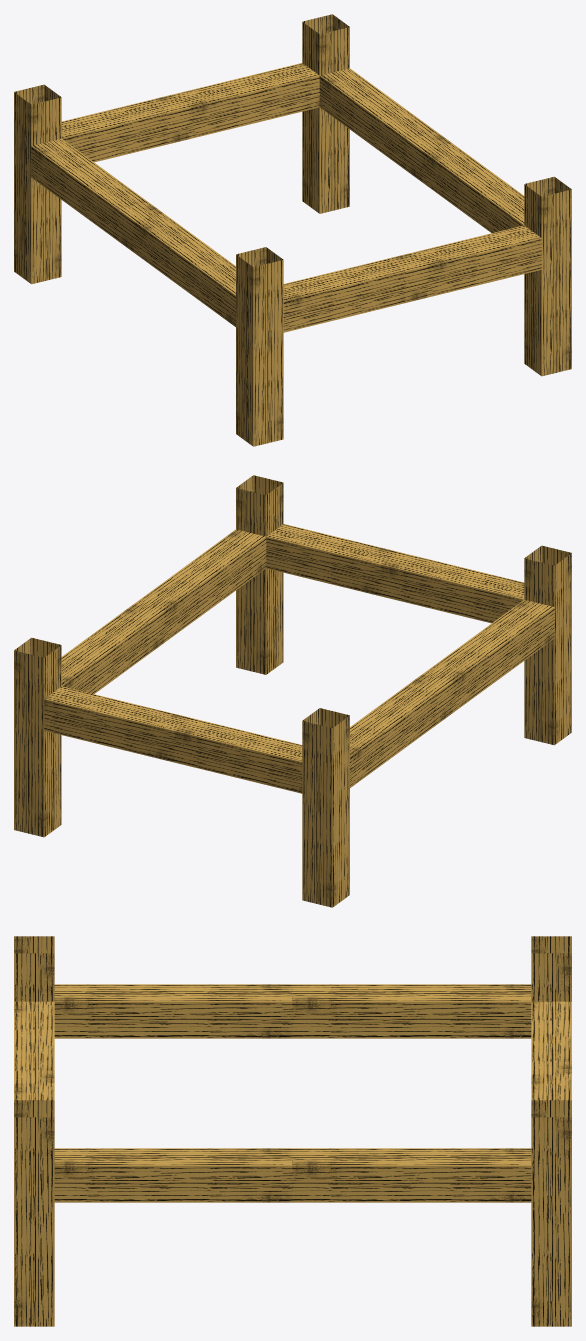
The model's file is PierKit_PierStructure.fbx.
3 views of the same model, one above another, from view 1: azimuth 30°, elevation 25°; view 2: azimuth 150°, elevation 25°; view 3: azimuth 270°, elevation 25° (orthographic). The views are drawn at different scales.
Visible parts, largest first — view 1: PierStructure; view 2: PierStructure; view 3: PierStructure.
Boxes of the visible parts, box(x1,y1,x2,y2) form: PierStructure: box(14, 14, 571, 446); PierStructure: box(14, 475, 571, 907); PierStructure: box(14, 936, 571, 1326).
Size of the model in its own units: 332 by 179 by 432.
Materials: 1 (1 with a texture image).
